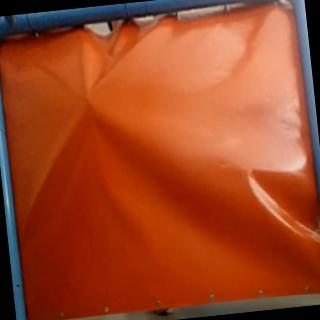Hit-hRxx: (82, 94, 96, 110)
